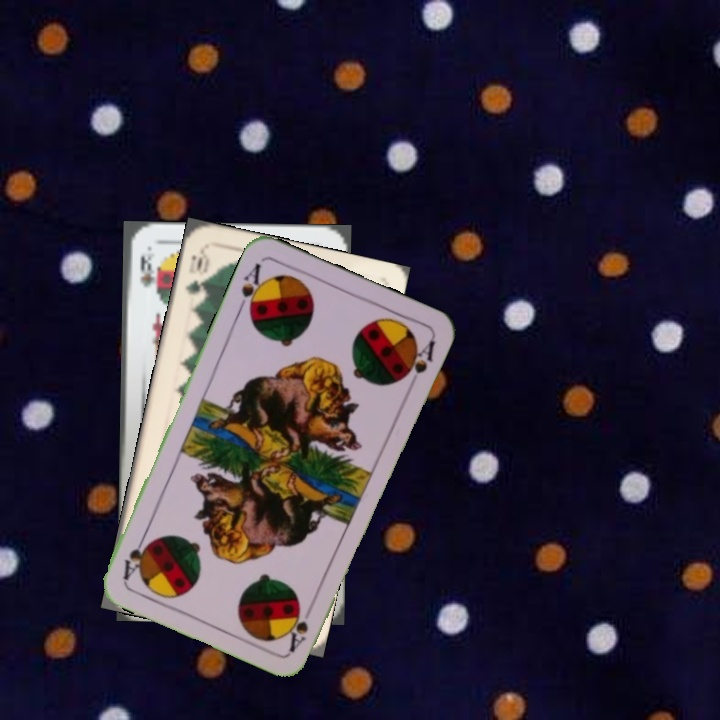G10: (181, 245, 212, 297)
SA: (234, 259, 268, 318), (285, 599, 318, 654)
SK: (136, 248, 157, 290)
